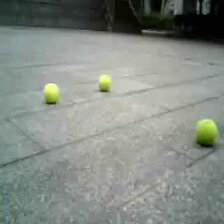tennis: (193, 120, 217, 144), (42, 84, 59, 103), (98, 74, 110, 90)
